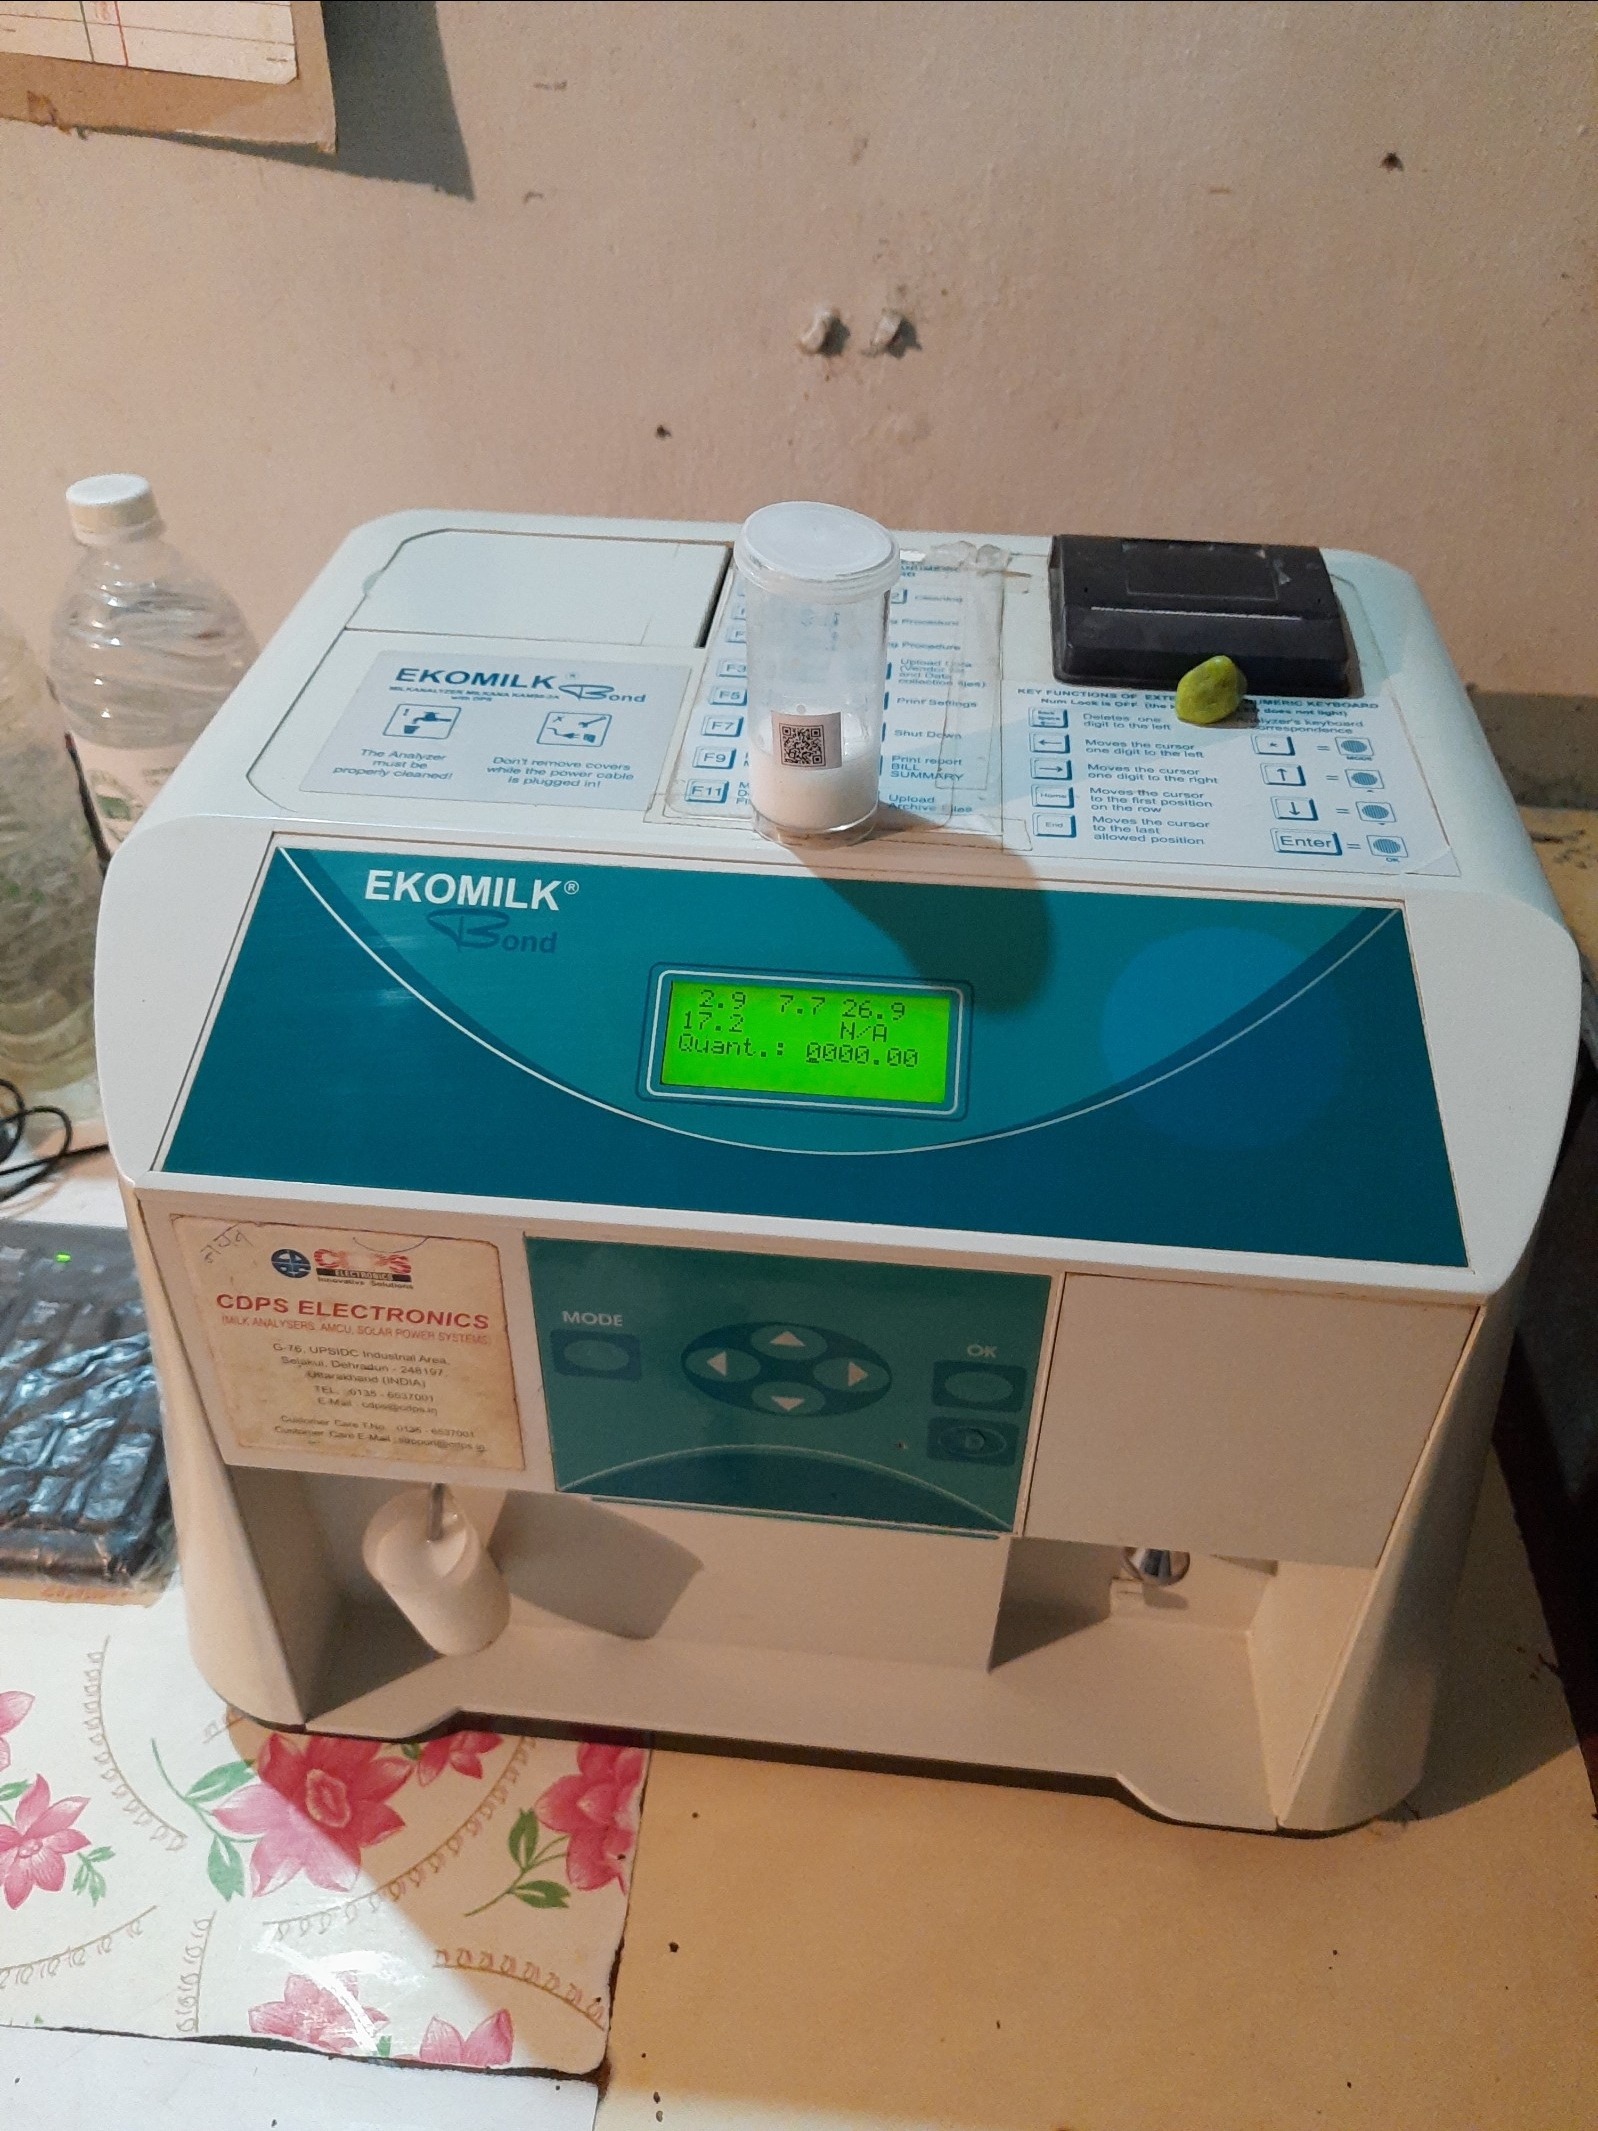lcd: (640, 965, 974, 1123)
qr: (760, 710, 848, 770)
